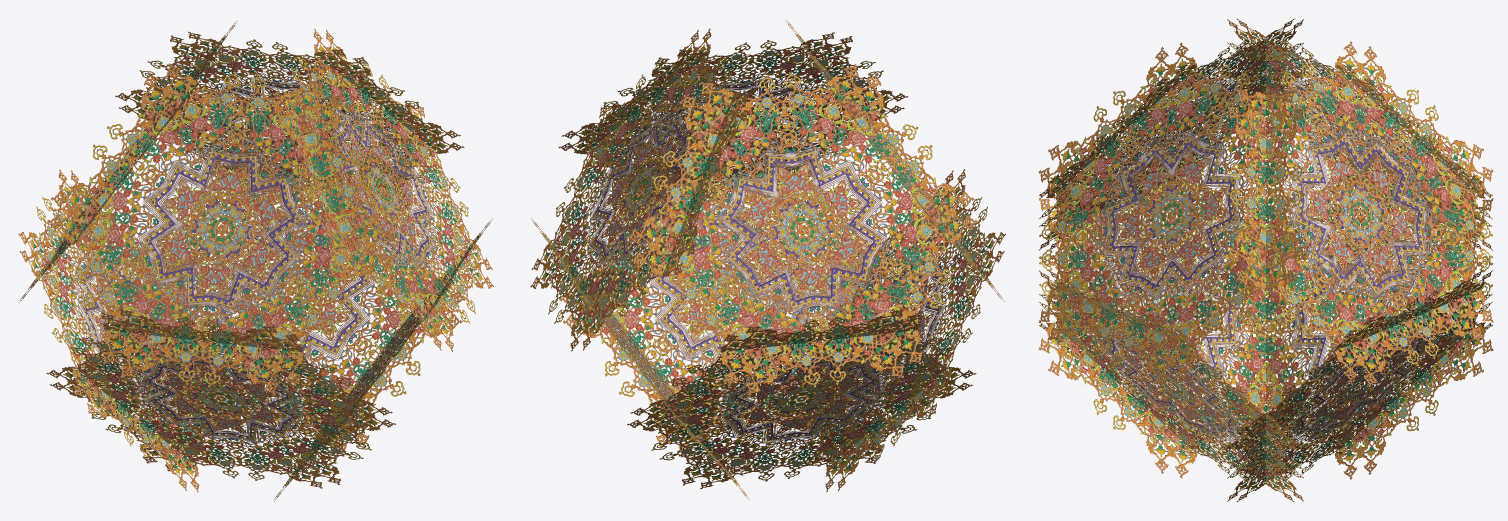
Rendered from CubitruncatedCuboctahedron6.gltf.
3 renders of one model, left to right at view 1: azimuth 30°, elevation 25°; view 2: azimuth 150°, elevation 25°; view 3: azimuth 270°, elevation 25°, orthographic.
Parts seen in each view (by area): view 1: CubitruncatedCuboctahedron; view 2: CubitruncatedCuboctahedron; view 3: CubitruncatedCuboctahedron.
Part boxes in pixels (<box>): CubitruncatedCuboctahedron: <box>18,21,493,501</box>; CubitruncatedCuboctahedron: <box>530,19,1005,499</box>; CubitruncatedCuboctahedron: <box>1038,18,1493,502</box>.
Size of the model in its own units: 2.41 by 2.41 by 2.41.
1 material, 1 textured.
